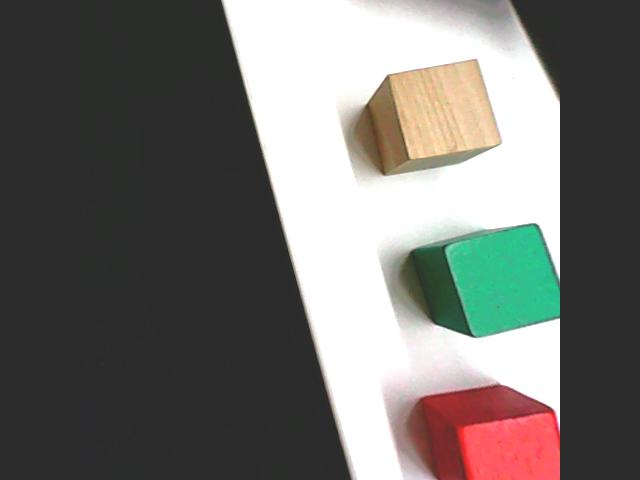green_box: (409, 219, 560, 340)
raw_box: (363, 55, 506, 178)
red_box: (418, 381, 560, 480)
